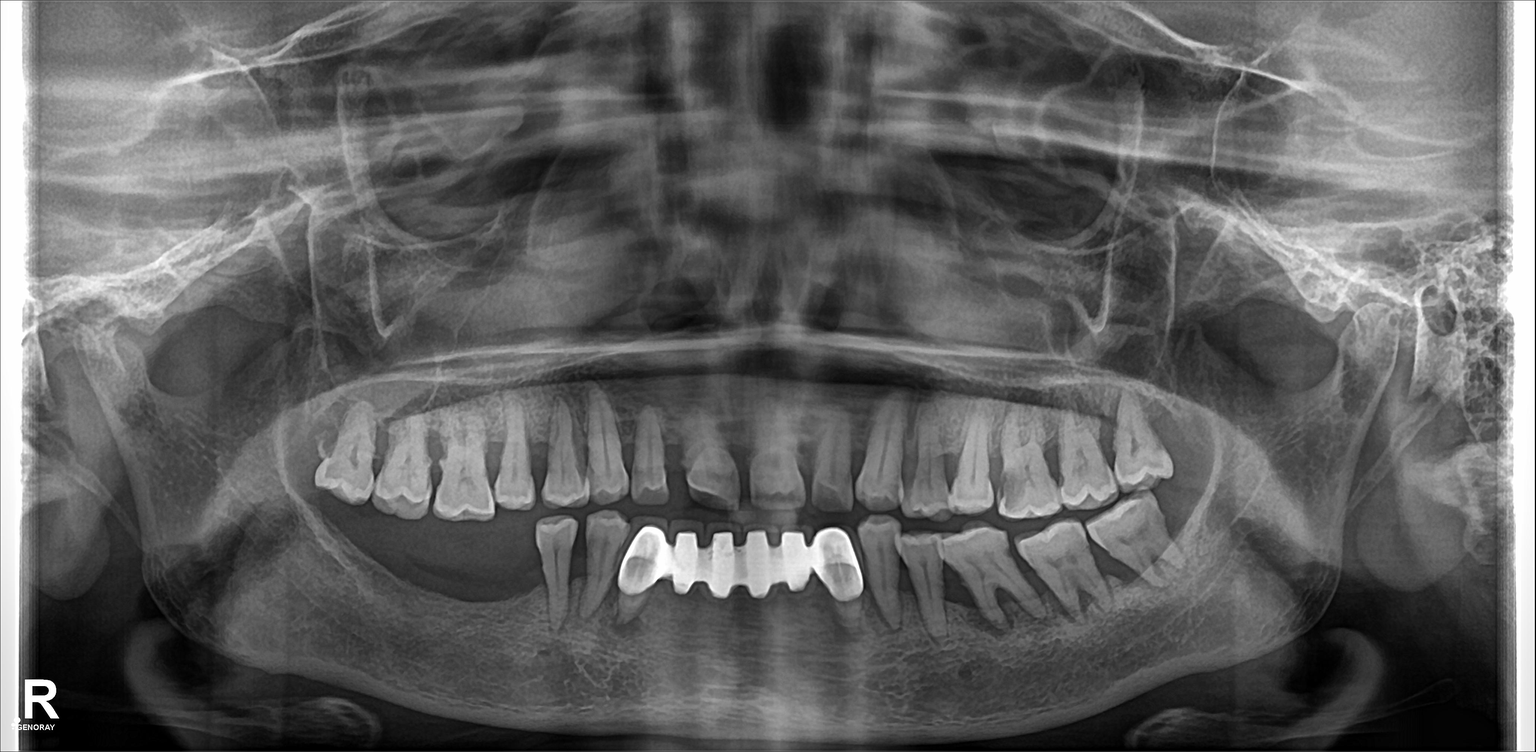Dental Caries: (689, 477, 734, 517)
Missing Tooth: (501, 544, 553, 661), (393, 529, 445, 640), (350, 519, 387, 606), (292, 398, 332, 478), (456, 545, 487, 640), (1162, 395, 1201, 456), (313, 516, 340, 597), (1164, 480, 1210, 526)
